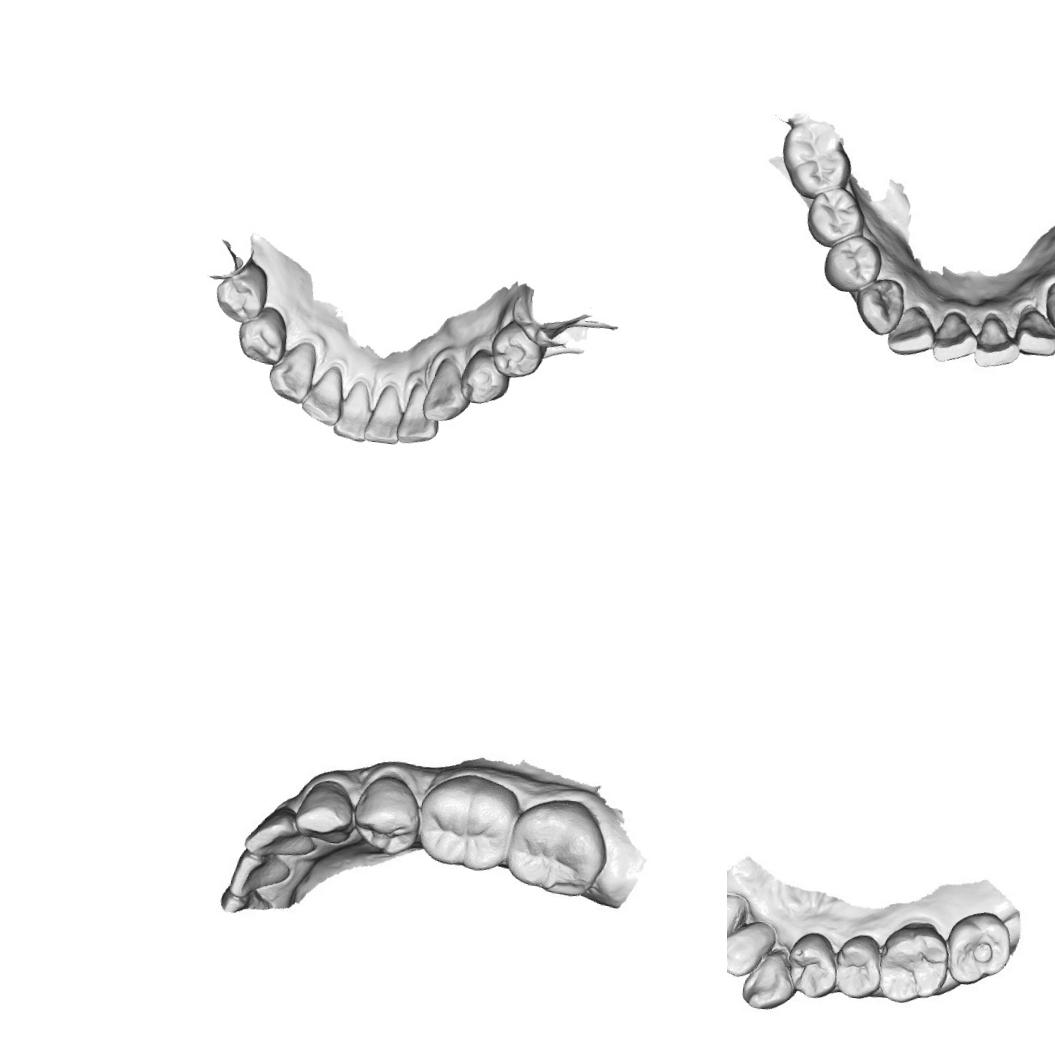canine: (292, 774, 358, 851), (265, 336, 320, 408), (420, 354, 473, 426), (740, 949, 796, 1015), (852, 274, 908, 337), (1040, 277, 1055, 336)
incisor: (244, 804, 314, 868), (226, 848, 299, 898), (970, 307, 1026, 372), (394, 377, 444, 449), (298, 360, 348, 429), (330, 376, 374, 444), (362, 380, 406, 448), (886, 302, 936, 360), (929, 307, 977, 367), (727, 919, 770, 980), (1014, 308, 1055, 359), (727, 890, 747, 956)
molar: (416, 762, 524, 874), (503, 792, 609, 902), (876, 918, 954, 1010), (774, 116, 856, 202), (940, 906, 1012, 992)
premolar: (351, 771, 426, 858), (211, 256, 273, 327), (801, 185, 869, 249), (830, 928, 888, 1003), (783, 930, 843, 1002), (486, 317, 550, 383), (820, 230, 886, 294), (234, 302, 291, 370), (456, 347, 513, 408)
